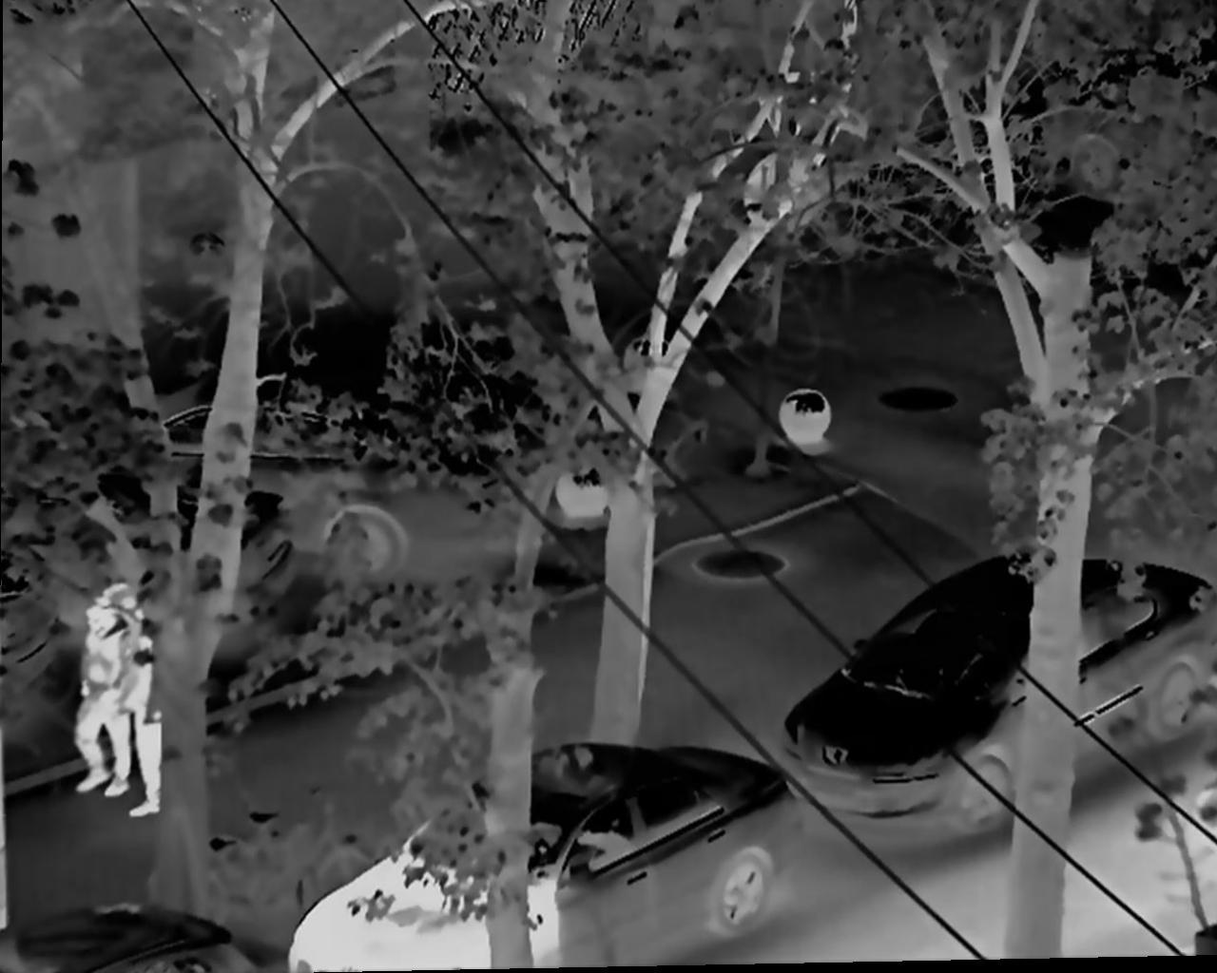person: (67, 588, 137, 798), (127, 584, 188, 817)
